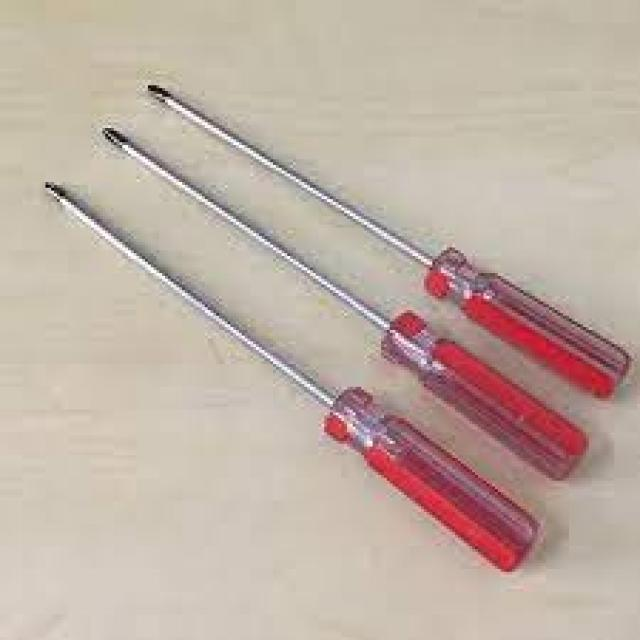screwdriver: (41, 177, 548, 580), (99, 122, 586, 484), (145, 80, 640, 406)
